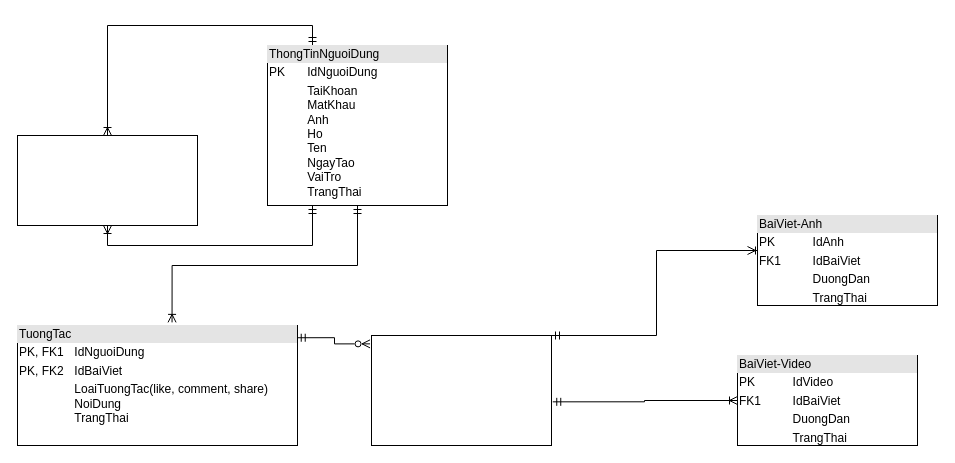
Image size: 955x463. Some labels were removed from this diagram. Each missing label, with the centre of its shape:
"BaiViet PK IdBaiViet NoiDung TrangThai" goes at [461,390].
"BanBe FK1 IdNguoiDung FK2 IdBanBe TrangThai" goes at [107,180].
